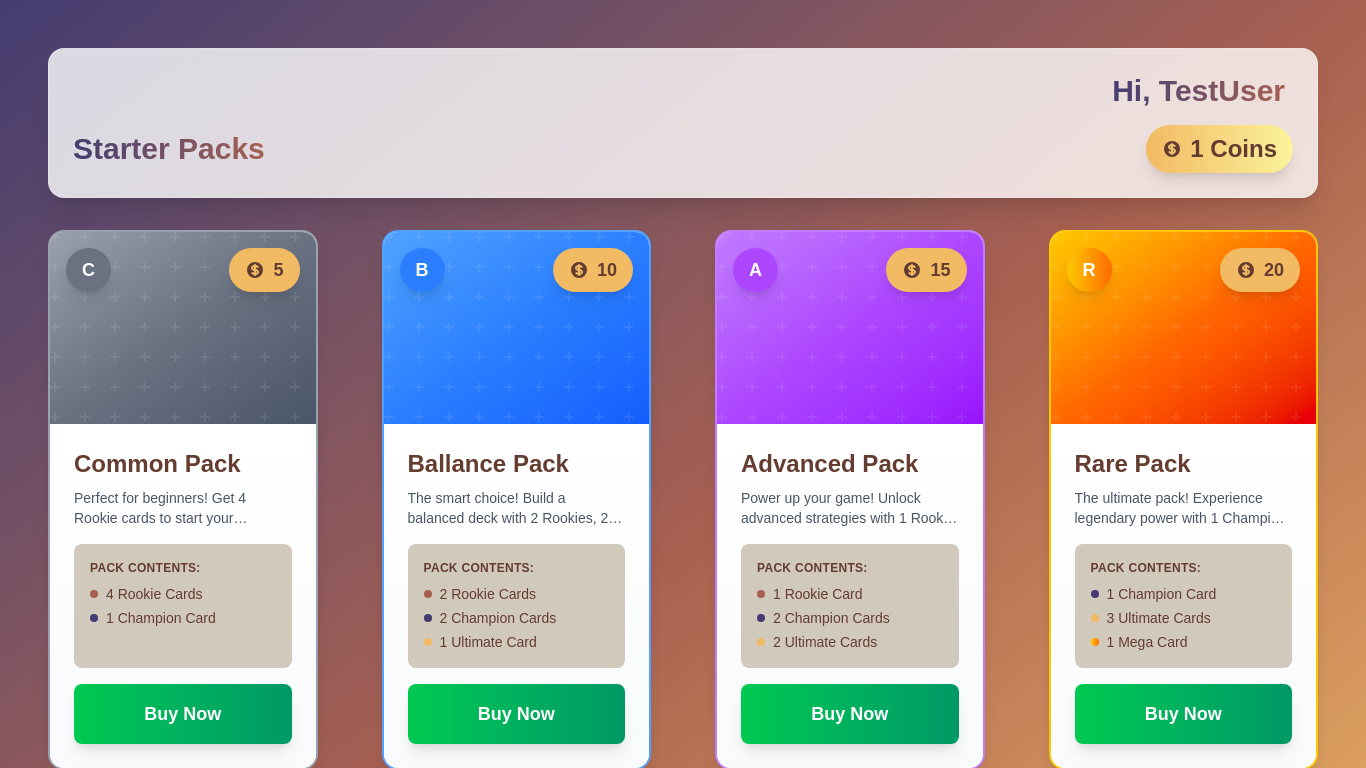
Test case: HomePage Component › Event Handler Functions › should execute handleBuyPack function with insufficient coins
Expected: the heading "Starter Packs" is shown, [73,131,265,167]
Click the button "Buy Now" below "Common".
click(183, 714)  # box [74,684,292,744]
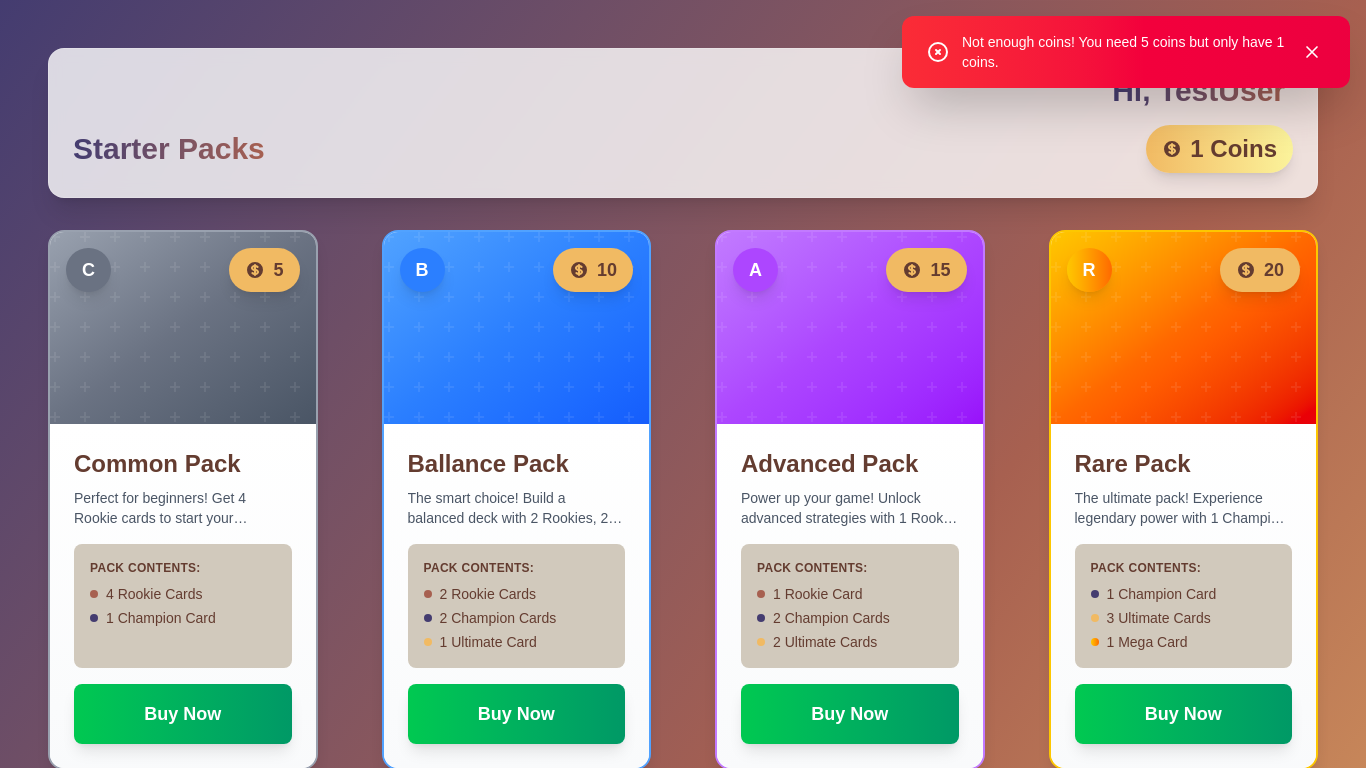
Expected: the text "Not enough coins! You need 5 coins but only have 1 coins." is shown, [962,32,1286,72]
